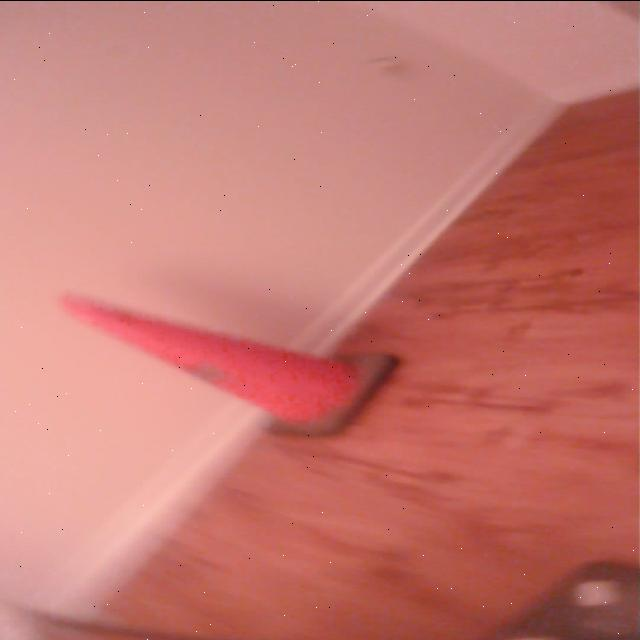traffic cone: (50, 287, 406, 445)
